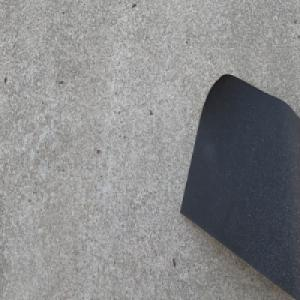PaintChip: (179, 72, 300, 300)
